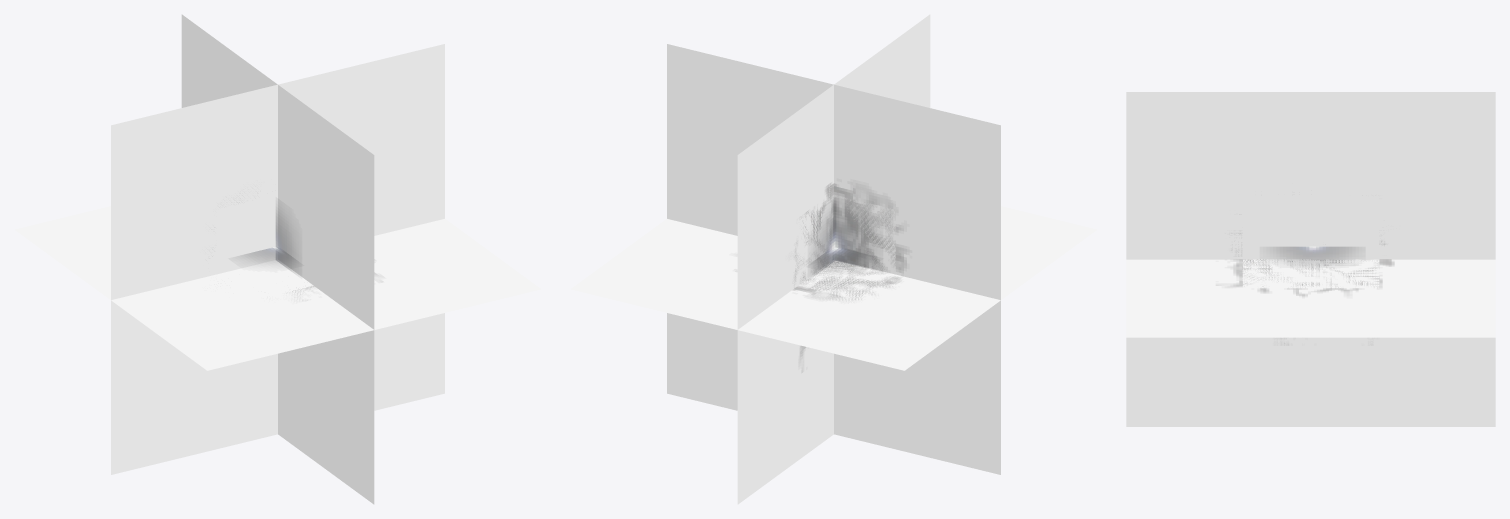
The model's file is lasercannonfinalred.glb.
The picture shows the model from 3 angles, left to right: view 1: azimuth 30°, elevation 25°; view 2: azimuth 150°, elevation 25°; view 3: azimuth 270°, elevation 25°; orthographic projection. The views are drawn at different scales.
Visible parts, largest first — view 1: mesh; view 2: mesh; view 3: mesh.
Boxes of the visible parts, x1=… form: mesh: x1=15, y1=14, x2=540, y2=504; mesh: x1=571, y1=14, x2=1096, y2=504; mesh: x1=1126, y1=92, x2=1495, y2=426.
Bounding box in the file's own units: 8.33 × 8.33 × 8.33.
Materials: 6 (6 with a texture image).
